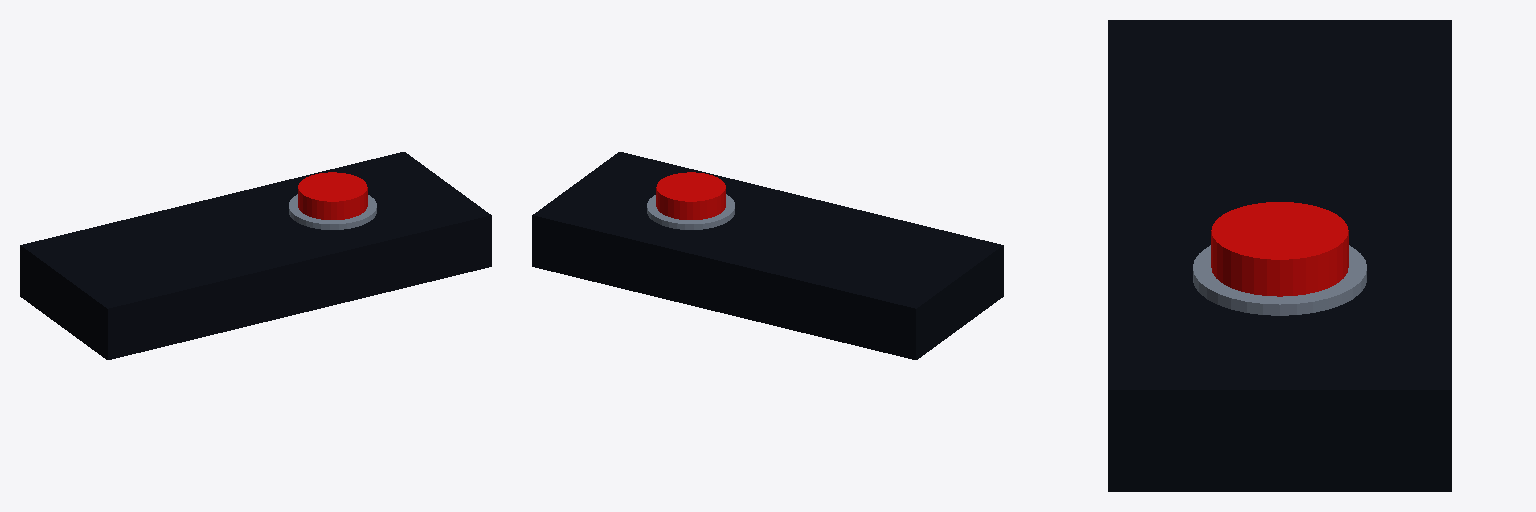
The robot description file, URDF, robot "One-button remote":
<?xml version="1.0"?>
<robot name="One-button remote">
  <link name="remote">
    <visual name="housing">
      <origin xyz="0 0 0.009"/>
      <geometry><box size="0.14 0.055 0.018"/></geometry>
      <material name="charcoal"><color rgba="0.075 0.09 0.12 1"/></material>
    </visual>
    <visual name="button_bezel">
      <origin xyz="0.028 0 0.019"/>
      <geometry><cylinder radius="0.014" length="0.002"/></geometry>
      <material name="bezel"><color rgba="0.5 0.54 0.6 1"/></material>
    </visual>
    <visual name="single_button">
      <origin xyz="0.028 0 0.023"/>
      <geometry><cylinder radius="0.011" length="0.007"/></geometry>
      <material name="red"><color rgba="0.84 0.07 0.06 1"/></material>
    </visual>
  </link>
</robot>

--- Render facts (derived) ---
The picture shows the robot from 3 angles, left to right: view 1: azimuth 30°, elevation 25°; view 2: azimuth 150°, elevation 25°; view 3: azimuth 270°, elevation 25°; orthographic projection.
Robot: One-button remote — 1 links, 0 joints (none); root link remote; default pose: all joints at 0.
Visible links, largest first — view 1: remote; view 2: remote; view 3: remote.
Link boxes in pixels (<box>): remote: <box>20,152,491,359</box>; remote: <box>532,152,1003,359</box>; remote: <box>1108,20,1451,491</box>.
Size in the robot's own frame: 0.14 by 0.055 by 0.0265 metres.
Geometry: primitives only (box / cylinder / sphere), no mesh files.
